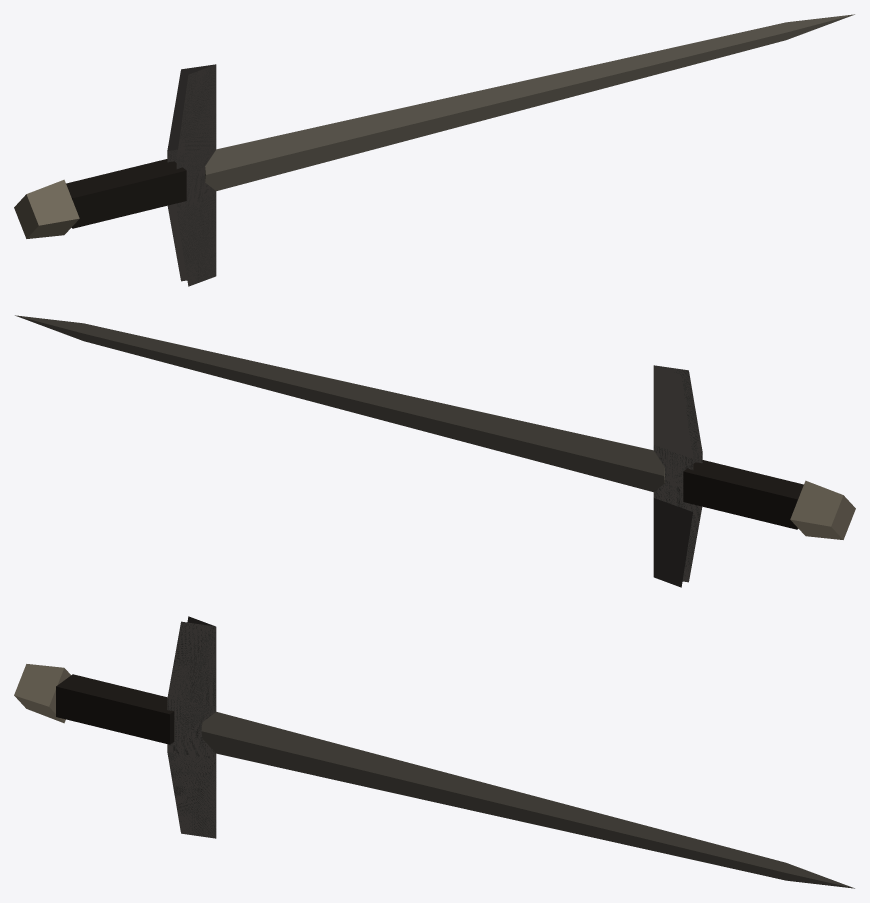
File: SM_AO_ProtoSword.obj
3 renders of one model, top to bottom at view 1: azimuth 30°, elevation 25°; view 2: azimuth 150°, elevation 25°; view 3: azimuth 330°, elevation 25°, orthographic.
Visible parts, largest first — view 1: SM_AO_ProtoSword; view 2: SM_AO_ProtoSword; view 3: SM_AO_ProtoSword.
Boxes of the visible parts, x1=… form: SM_AO_ProtoSword: x1=14, y1=14, x2=854, y2=286; SM_AO_ProtoSword: x1=15, y1=315, x2=855, y2=587; SM_AO_ProtoSword: x1=14, y1=616, x2=854, y2=888.
Bounding box in the file's own units: 131 × 32 × 8.4.
